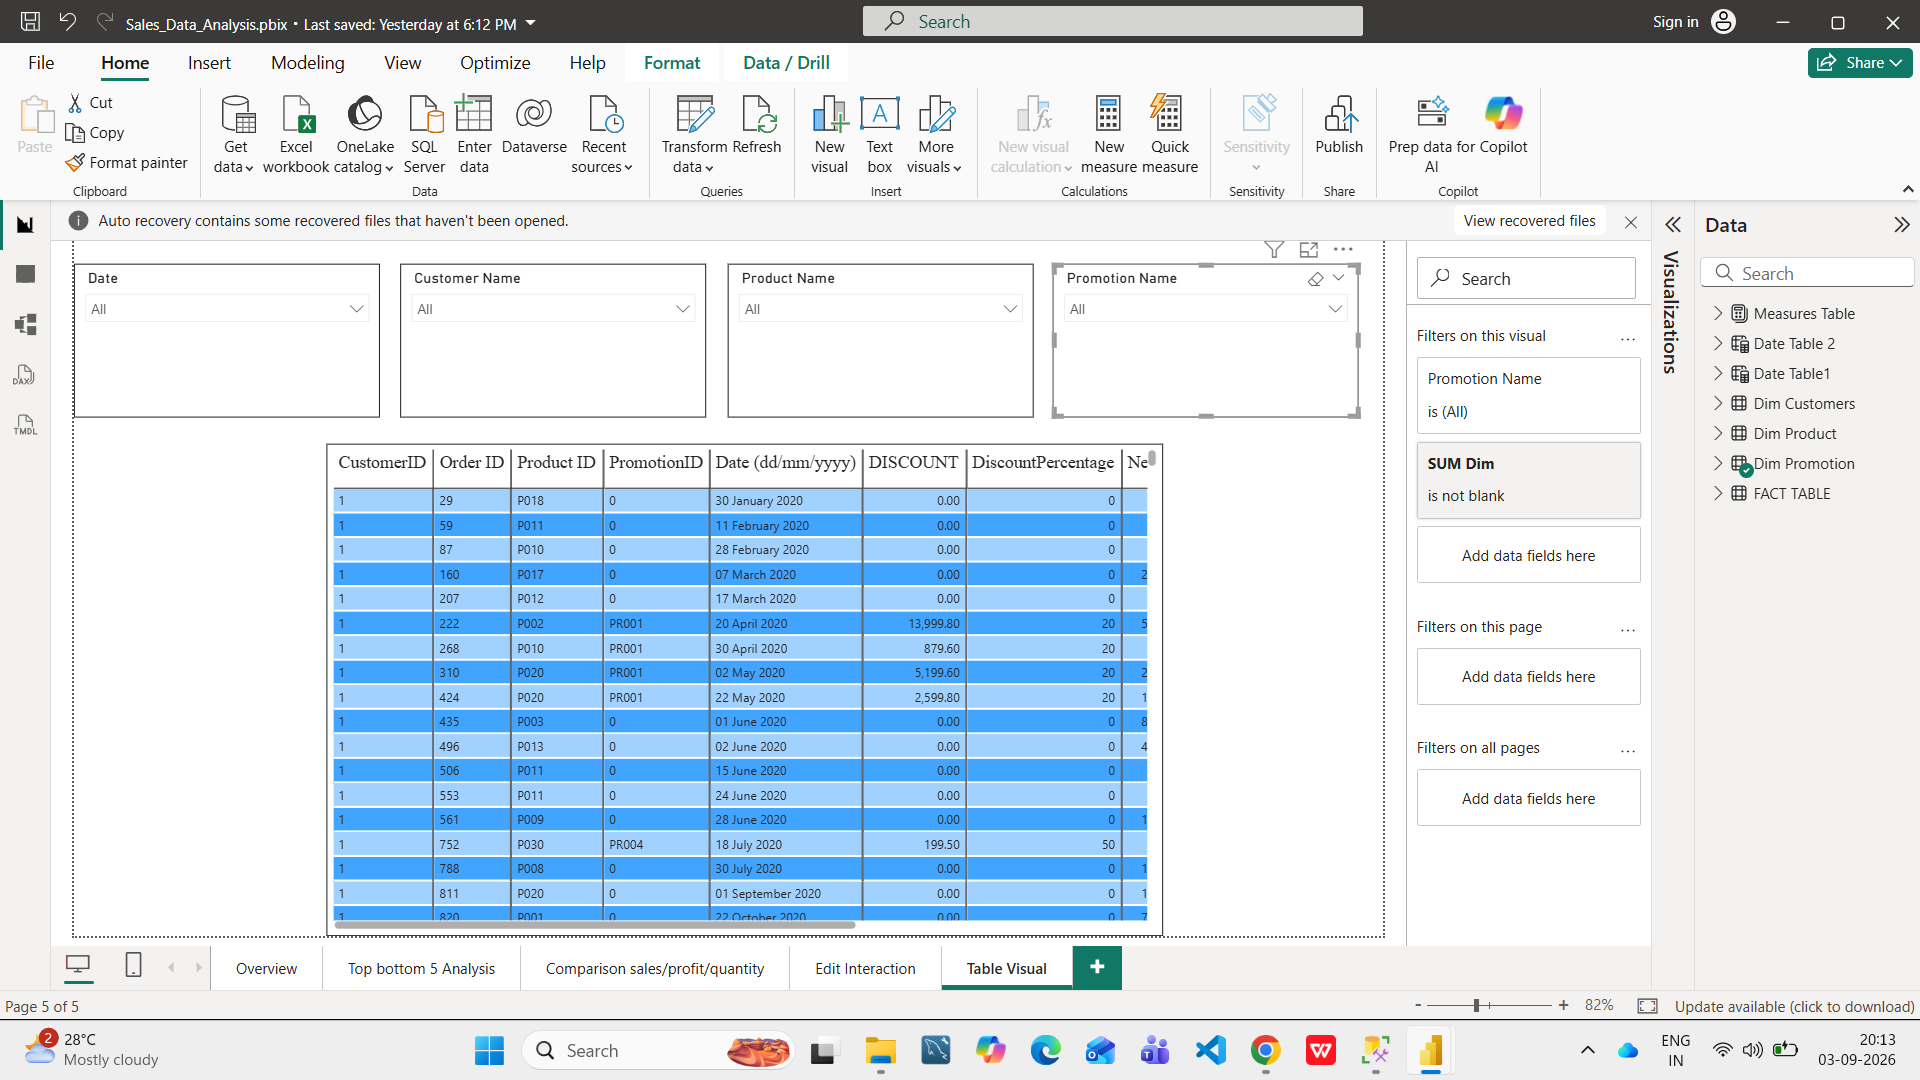

Layout of this report page (visuals, bound fields, positions):
{"tool":"powerbi","page":{"name":"Table Visual","canvas":[1280,720],"ordinal":4},"visuals":[{"type":"tableEx","fields":{"Values":["FACT TABLE.CustomerID","FACT TABLE.Order ID","FACT TABLE.Product ID","FACT TABLE.PromotionID","FACT TABLE.Date (dd/mm/yyyy)","FACT TABLE.DISCOUNT","FACT TABLE.DiscountPercentage","FACT TABLE.Net sales","FACT TABLE.Price per Unit","FACT TABLE.Profit column","FACT TABLE.Total sales   ","FACT TABLE.Units Sold"]},"box":[247,238.5,818.1,481.8],"z":0},{"type":"slicer","fields":{"Values":["Date Table1.Date"]},"box":[0,62.4,299.6,150.4],"z":1000},{"type":"slicer","fields":{"Values":["Dim Customers.Customer Name"]},"box":[319.2,62.4,299.6,150.4],"z":2000},{"type":"slicer","fields":{"Values":["Dim Product.Product Name"]},"box":[639.5,62.4,299.6,150.4],"z":3000},{"type":"slicer","fields":{"Values":["Dim Promotion.Promotion Name"]},"box":[957.5,62.4,299.6,150.4],"z":4000}]}

Visuals, with their boxes on the page's 1280x720 design canvas (x1, y1, x2, y2). These are canvas units, not pixel positions in the 1920x1080 screenshot, which may show the page scaled, cropped or inside an application window:
tableEx - FACT TABLE.CustomerID x FACT TABLE.Order ID: rect(247, 238, 1065, 720)
slicer - Date Table1.Date: rect(0, 62, 300, 213)
slicer - Dim Customers.Customer Name: rect(319, 62, 619, 213)
slicer - Dim Product.Product Name: rect(640, 62, 939, 213)
slicer - Dim Promotion.Promotion Name: rect(958, 62, 1257, 213)
